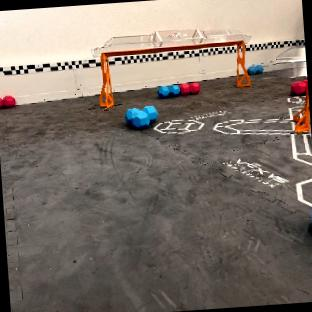V5_BLUE: (125, 105, 157, 128), (158, 84, 180, 97), (247, 65, 262, 73)
V5_RED: (180, 81, 200, 95), (291, 80, 307, 94), (0, 96, 15, 108)
